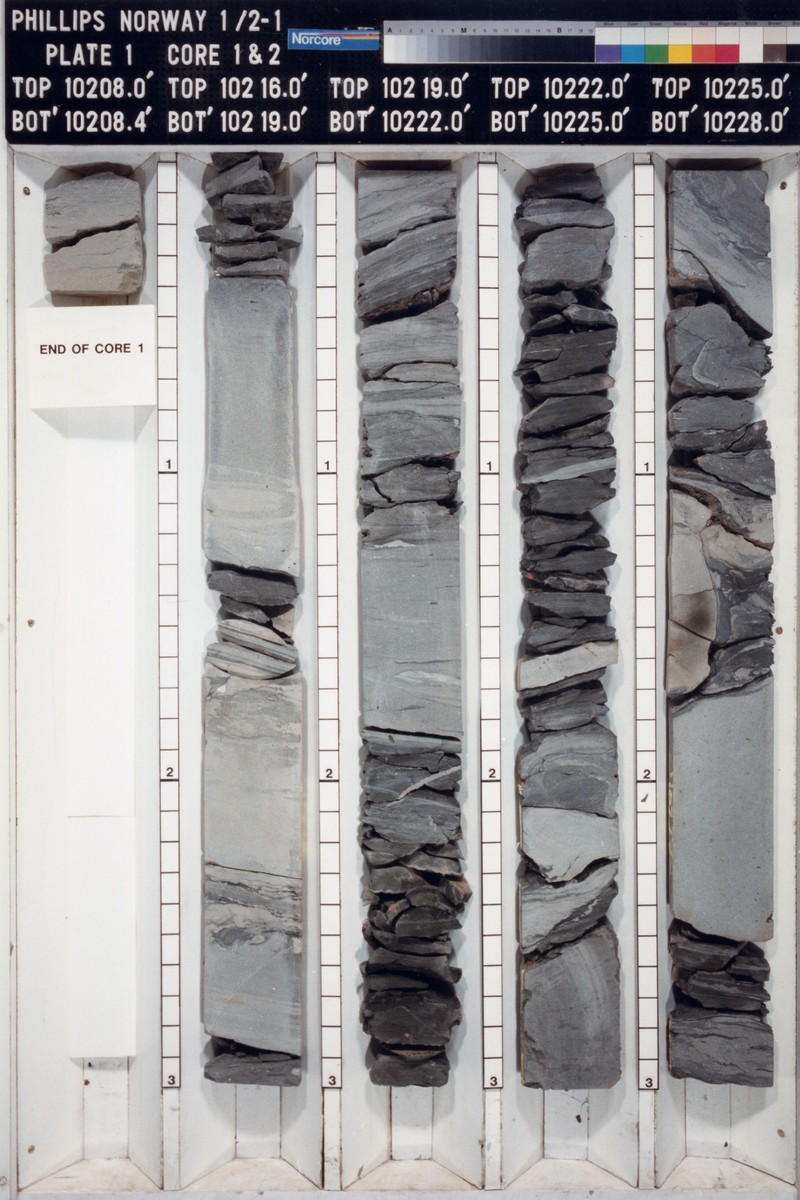core: (352, 158, 474, 1093), (662, 164, 778, 1094), (193, 151, 304, 1085), (512, 166, 623, 1094), (41, 167, 146, 300)
